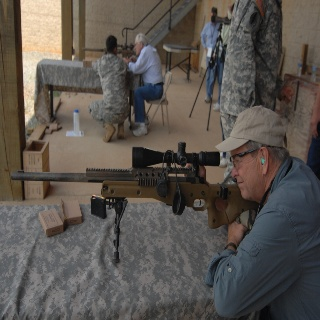rifle: (8, 142, 261, 264)
